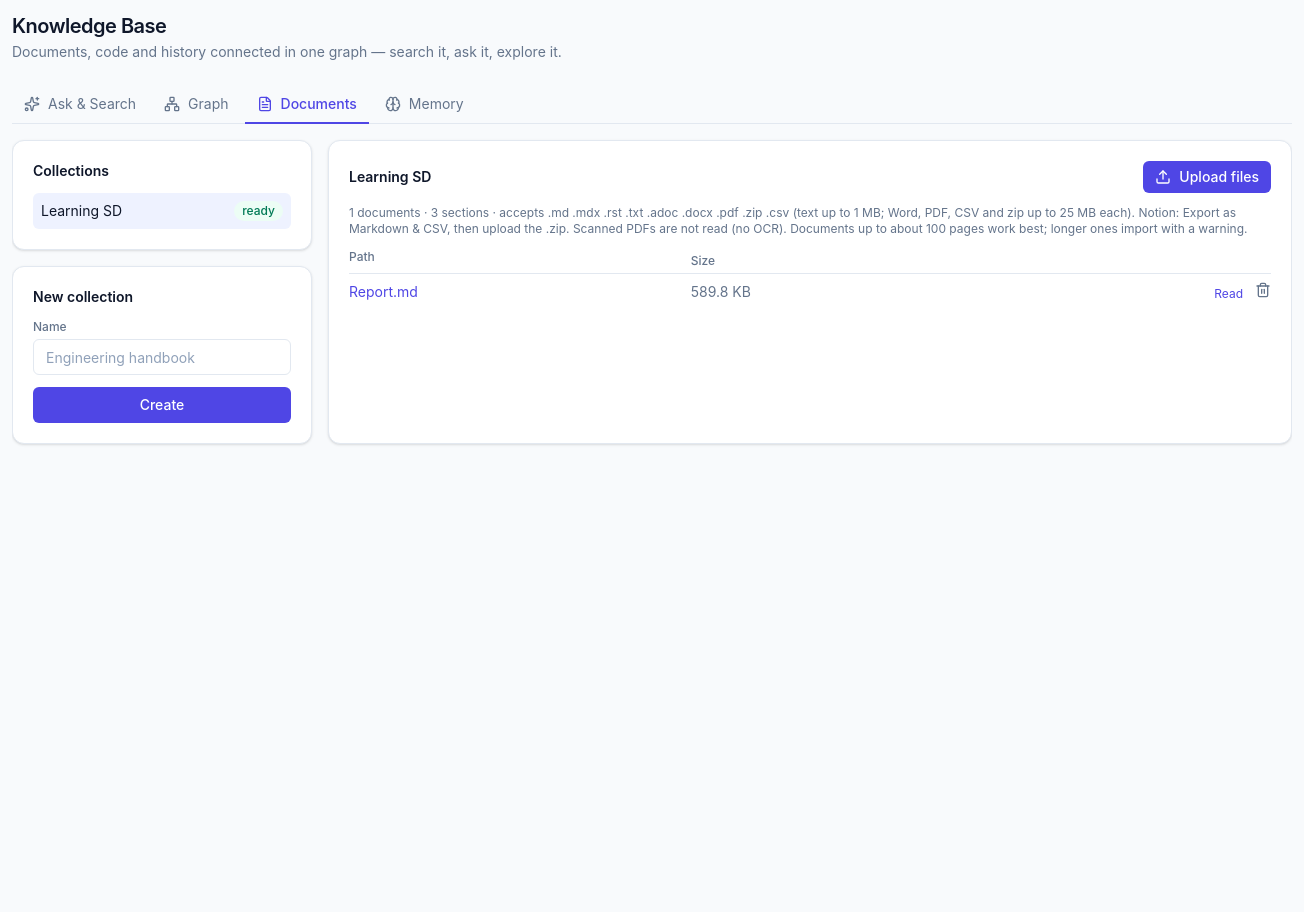
opening a document from the Documents tab › reads it in place and comes back to the list
Click the button with aria-label "Read Report.md" at (1229, 294), box [1214,286,1243,302]
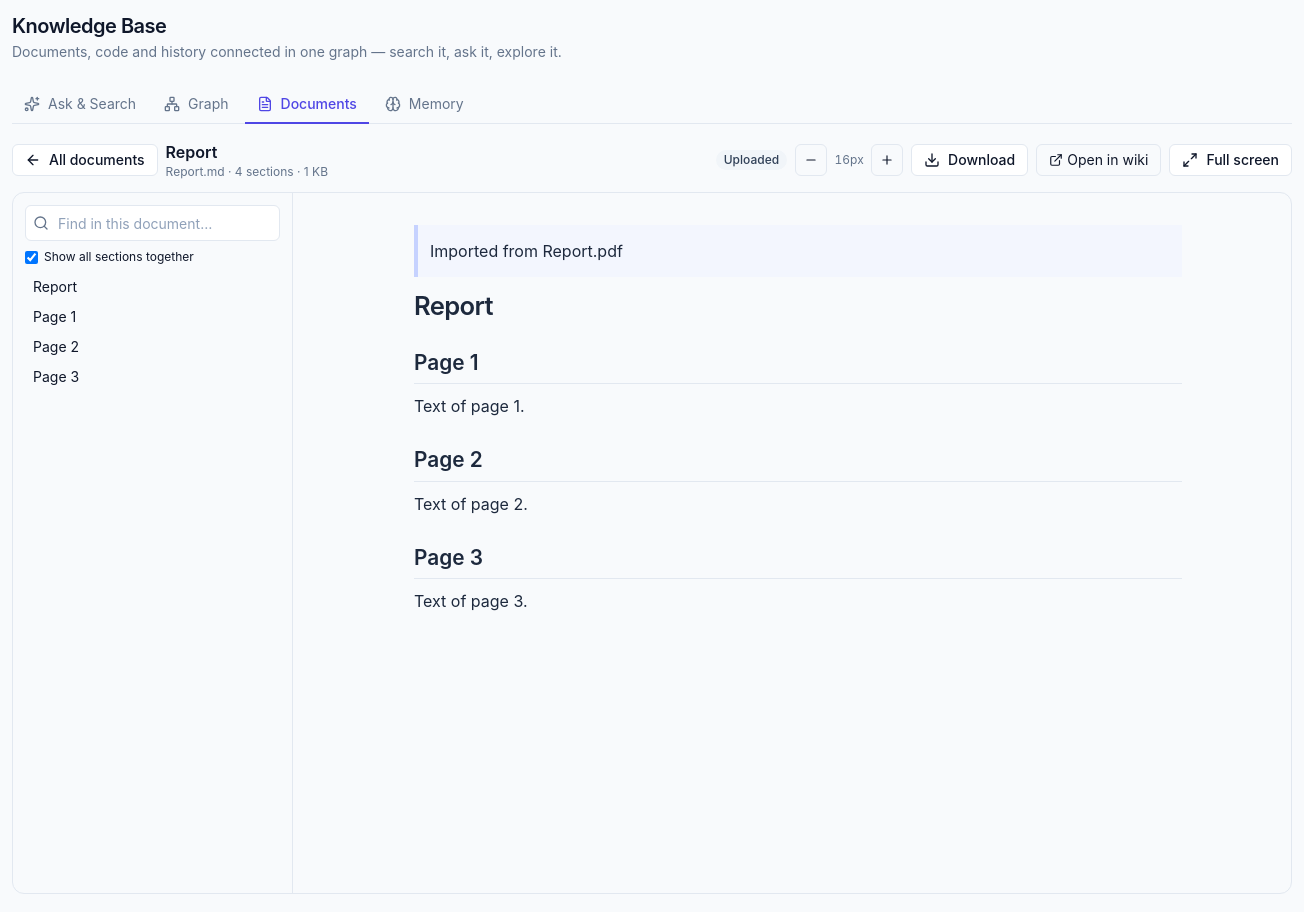
Check: the element named "Document text" shows "Text of page 2.", box [414,494,528,514]
Click the button "All documents" at (85, 160), box [12,144,158,176]
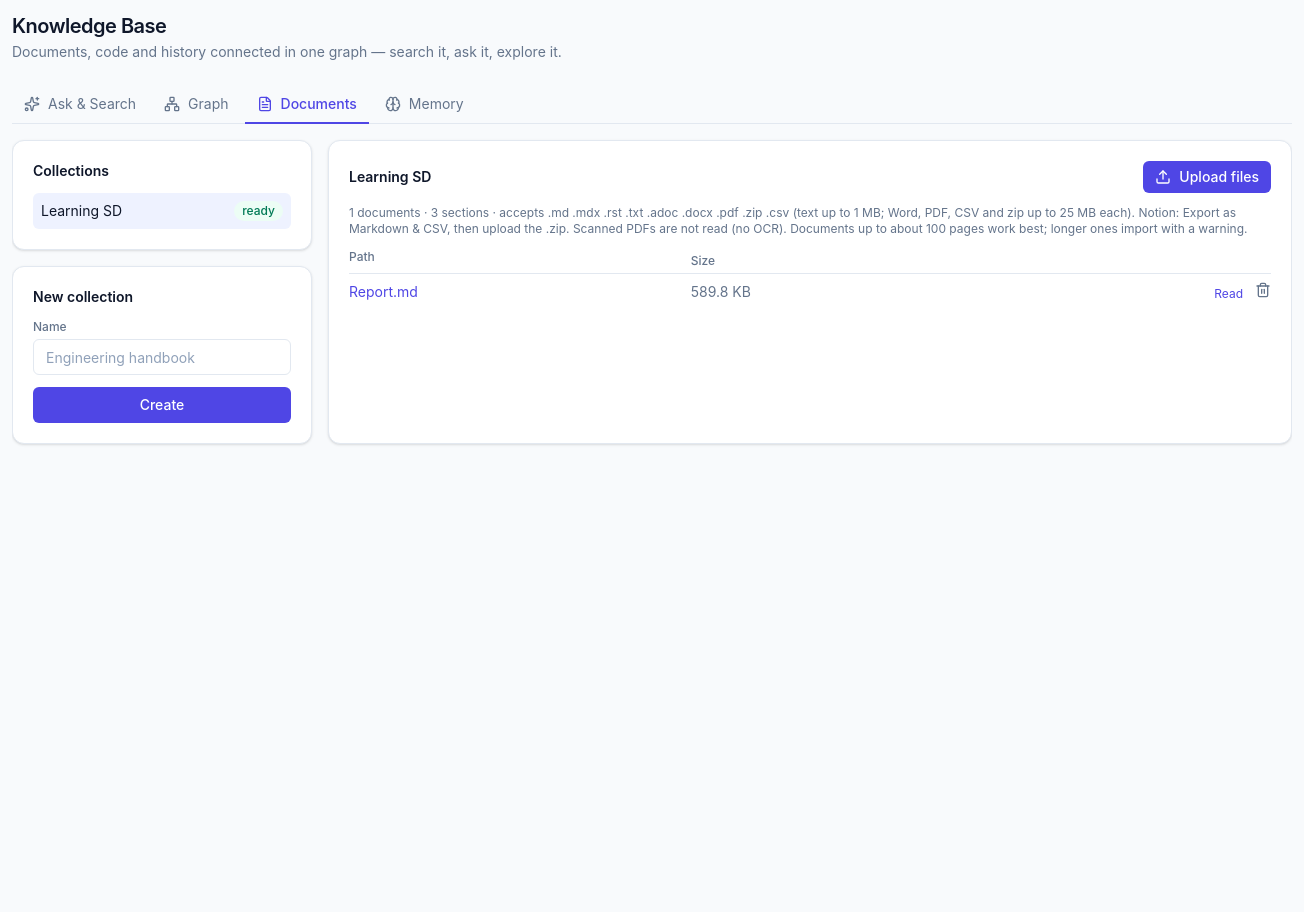
Check: the button with aria-label "Read Report.md" is shown, box [1214,286,1243,302]
Click the button titled "Read this document here" at (383, 292), box [349,282,418,302]
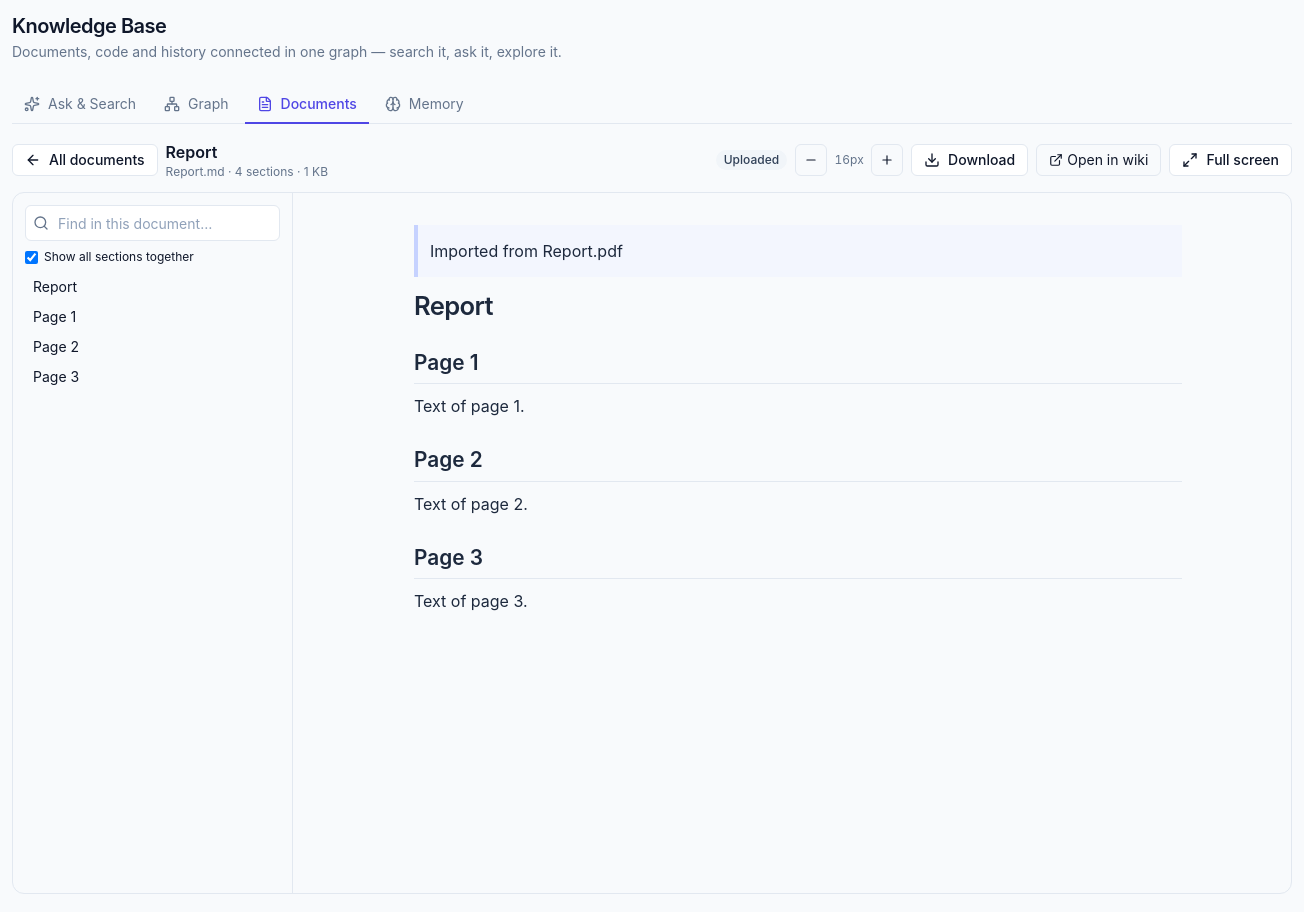
Check: the element named "Document text" is shown, box [414,225,1182,611]
